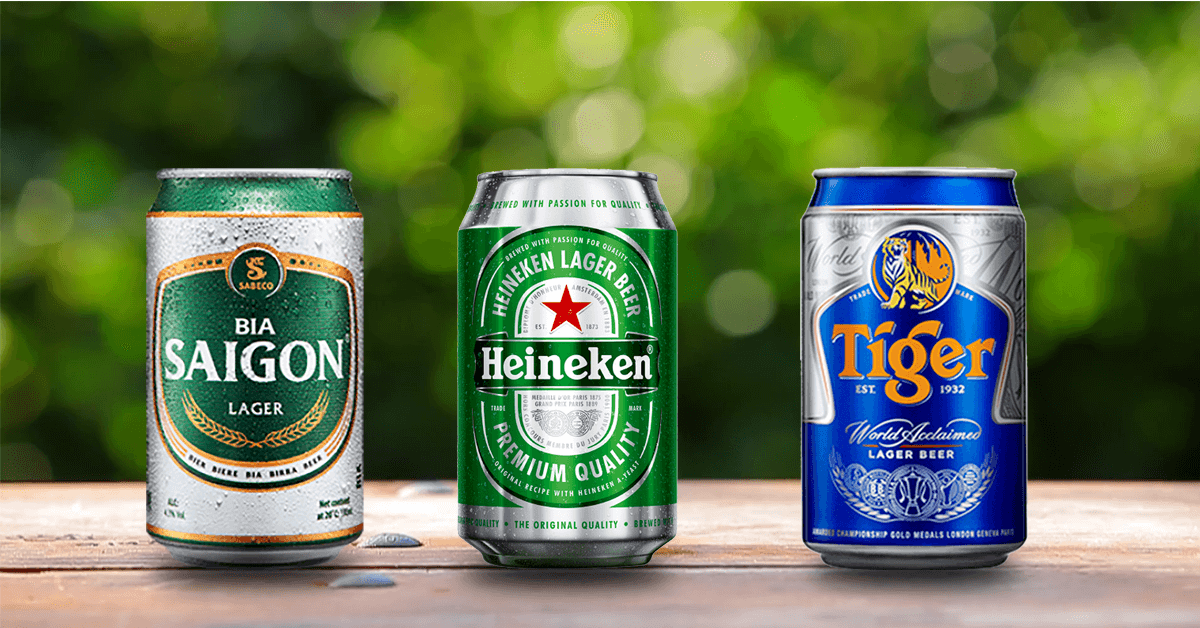biasaigon: (164, 312, 346, 391)
heineken: (480, 344, 651, 384)
tiger: (828, 316, 997, 405)
